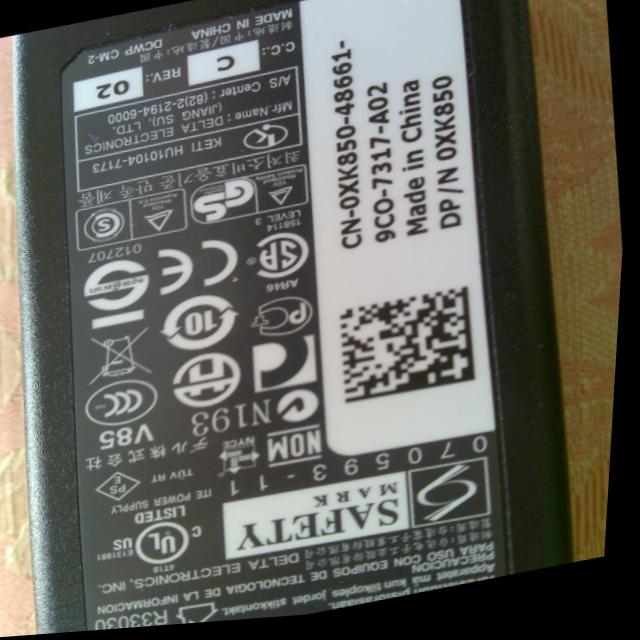datamatrix: (327, 288, 491, 418)
